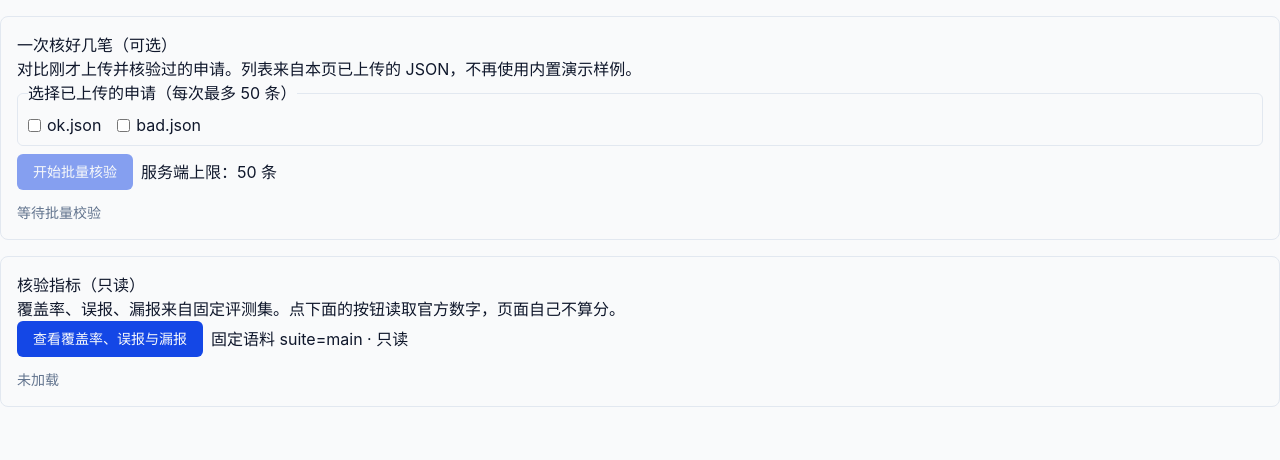
Test: DemoBatchSummaryPanel › renders the cap rejection as a terminal failed status with fixed bound-specific copy and the server cap separately visible
The width and height of the screenshot is (1280, 460).
Step 1. Click the checkbox labelled "ok.json" → x=34, y=125, box [28,118,41,132]
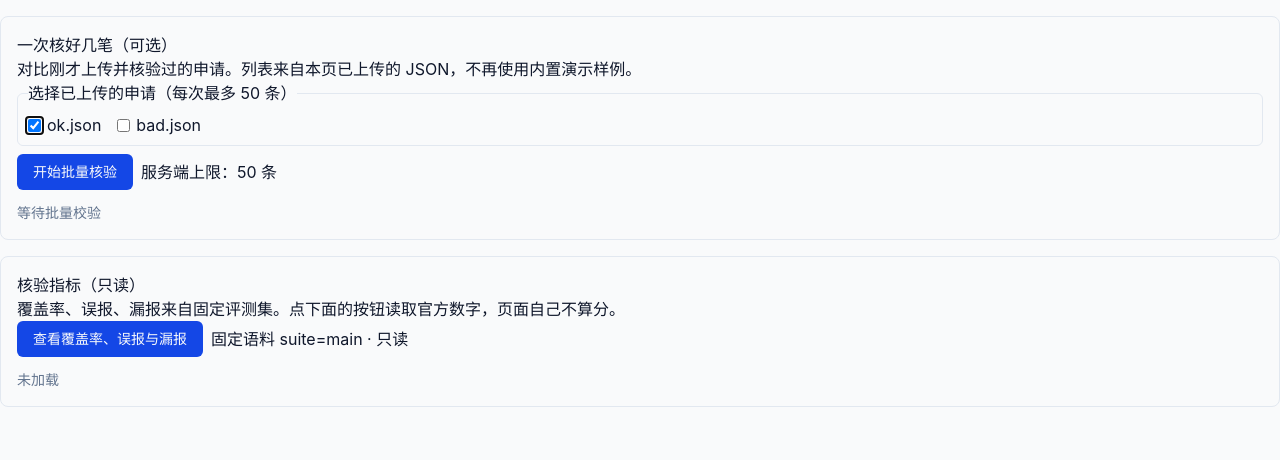
Step 2. Click the button with test id "demo-batch-run-button" → x=75, y=172, box [17,154,133,190]
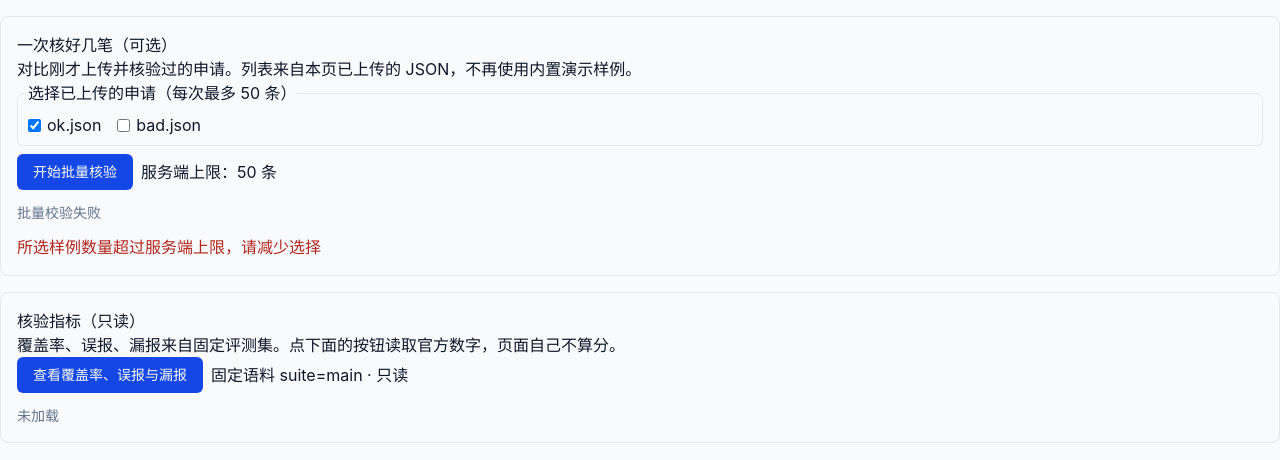
Expected: the message with test id "demo-batch-status" reads "批量校验失败", [17,204,101,221]
Expected: the message with test id "demo-batch-status" no longer shows "等待批量校验"
Expected: the message with test id "demo-batch-error" reads "所选样例数量超过服务端上限，请减少选择", [17,237,321,257]
